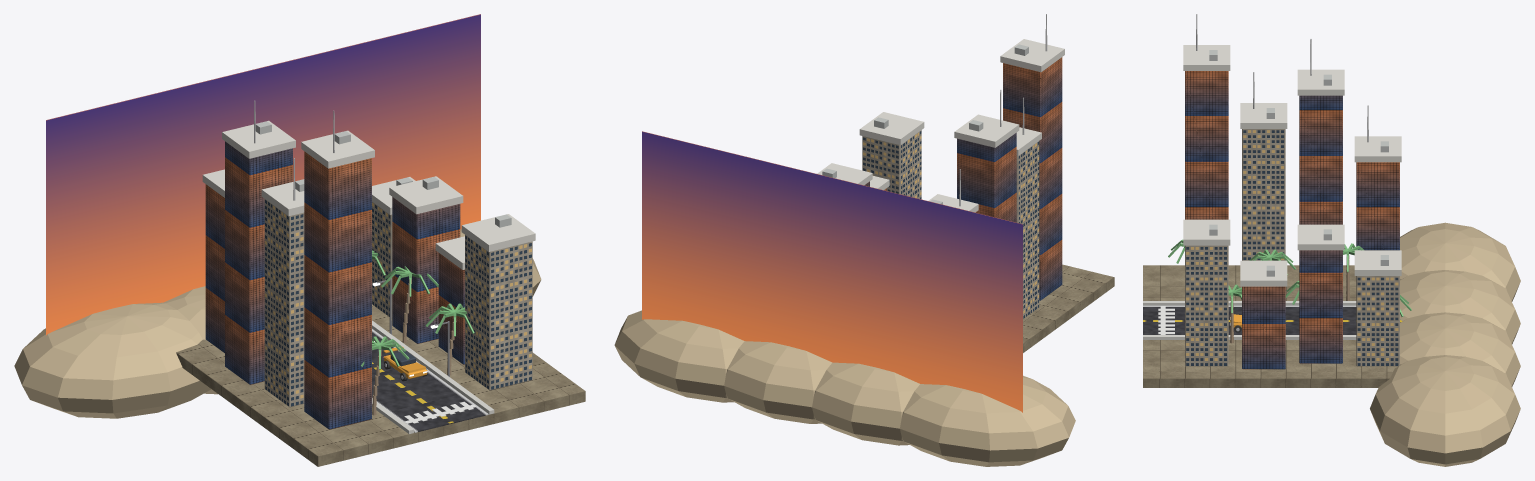
Rendered from ch5_game_0.glb.
3 renders of one model, left to right at view 1: azimuth 30°, elevation 25°; view 2: azimuth 150°, elevation 25°; view 3: azimuth 270°, elevation 25°, orthographic. The views are drawn at different scales.
Parts seen in each view (by area): view 1: sky, tower.006, hill, slab, tower.002, tower.007, tower.004, tower.003, road, tower, tower.005, tower.001 (+8 smaller); view 2: sky, hill, hill.003, tower.006, hill.001, hill.002, tower.002, slab, tower.004, tower.007, crown.007, crown.002 (+2 smaller); view 3: hill.003, slab, tower.006, tower.002, tower.004, tower.007, hill, hill.002, tower.003, hill.001, tower.001, tower (+12 smaller).
Part boxes in pixels (x1,y1,x2,y2): sky: (46, 14, 480, 335); tower.006: (304, 151, 371, 429); hill: (14, 302, 210, 418); slab: (176, 305, 585, 466); tower.002: (225, 141, 292, 384); tower.007: (465, 235, 532, 390); tower.004: (264, 199, 304, 407); tower.003: (392, 197, 460, 343); road: (372, 329, 488, 432); tower: (205, 184, 224, 352); tower.005: (438, 253, 464, 364); tower.001: (372, 202, 392, 317); sky: (642, 131, 1022, 412); hill: (900, 375, 1075, 466); hill.003: (614, 310, 744, 402); tower.006: (1003, 57, 1062, 300); hill.001: (812, 362, 919, 445); hill.002: (724, 341, 832, 423); tower.002: (957, 132, 1016, 222); slab: (1023, 264, 1114, 352); tower.004: (1016, 141, 1039, 318); tower.007: (862, 130, 921, 199); crown.007: (859, 112, 924, 145); crown.002: (954, 114, 1019, 147); hill.003: (1370, 355, 1520, 466); slab: (1143, 265, 1400, 387); tower.006: (1185, 71, 1228, 219); tower.002: (1299, 95, 1342, 224); tower.004: (1242, 129, 1285, 260); tower.007: (1185, 245, 1228, 366); hill: (1400, 222, 1520, 301); hill.002: (1400, 312, 1520, 386); tower.003: (1299, 250, 1342, 363); hill.001: (1400, 270, 1520, 344); tower.001: (1356, 276, 1399, 366); tower: (1356, 162, 1399, 250).
Bounding box in the file's own units: 30.6 × 21.78 × 22.5.
Materials: 22 (5 with a texture image).
